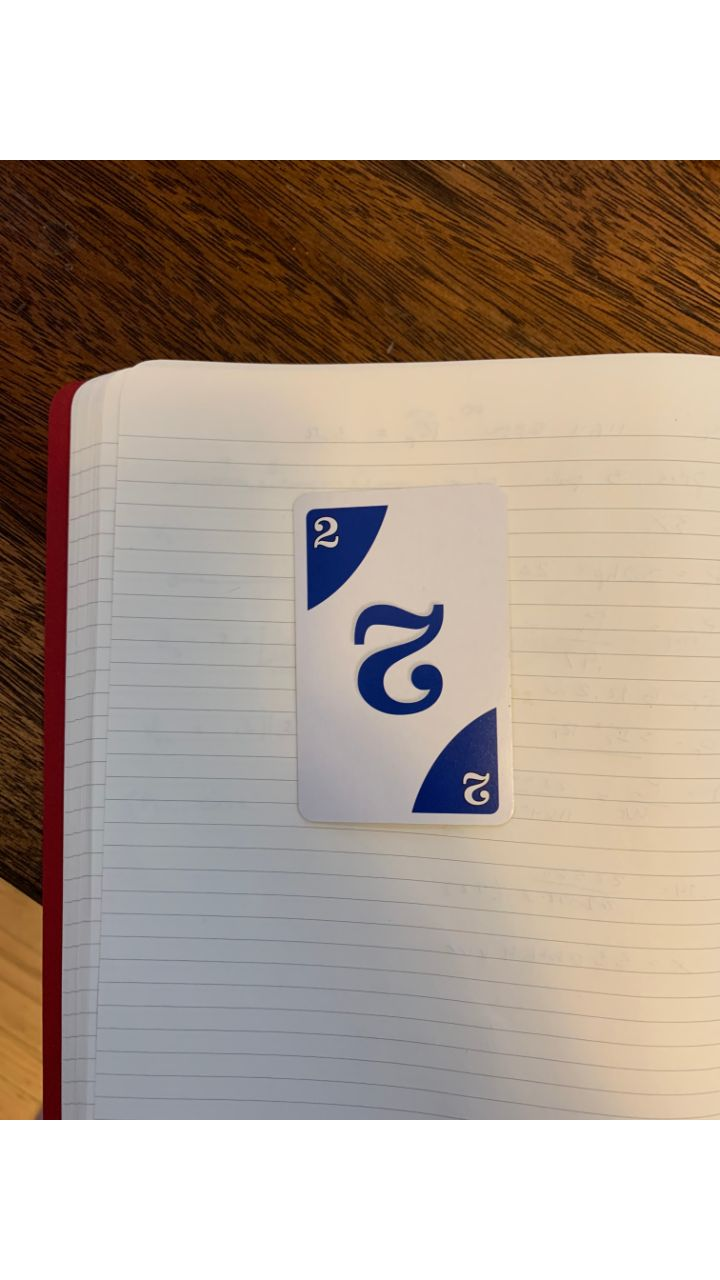two: (290, 482, 526, 833)
